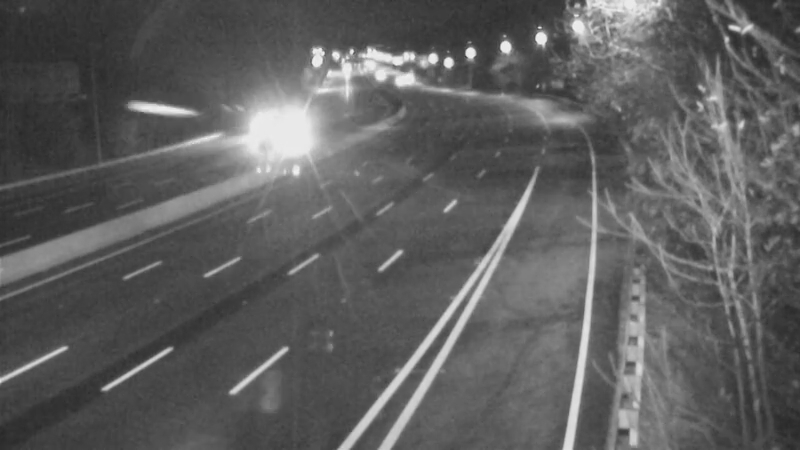vehicle: (378, 53, 428, 103), (263, 116, 313, 166), (234, 99, 284, 149)
